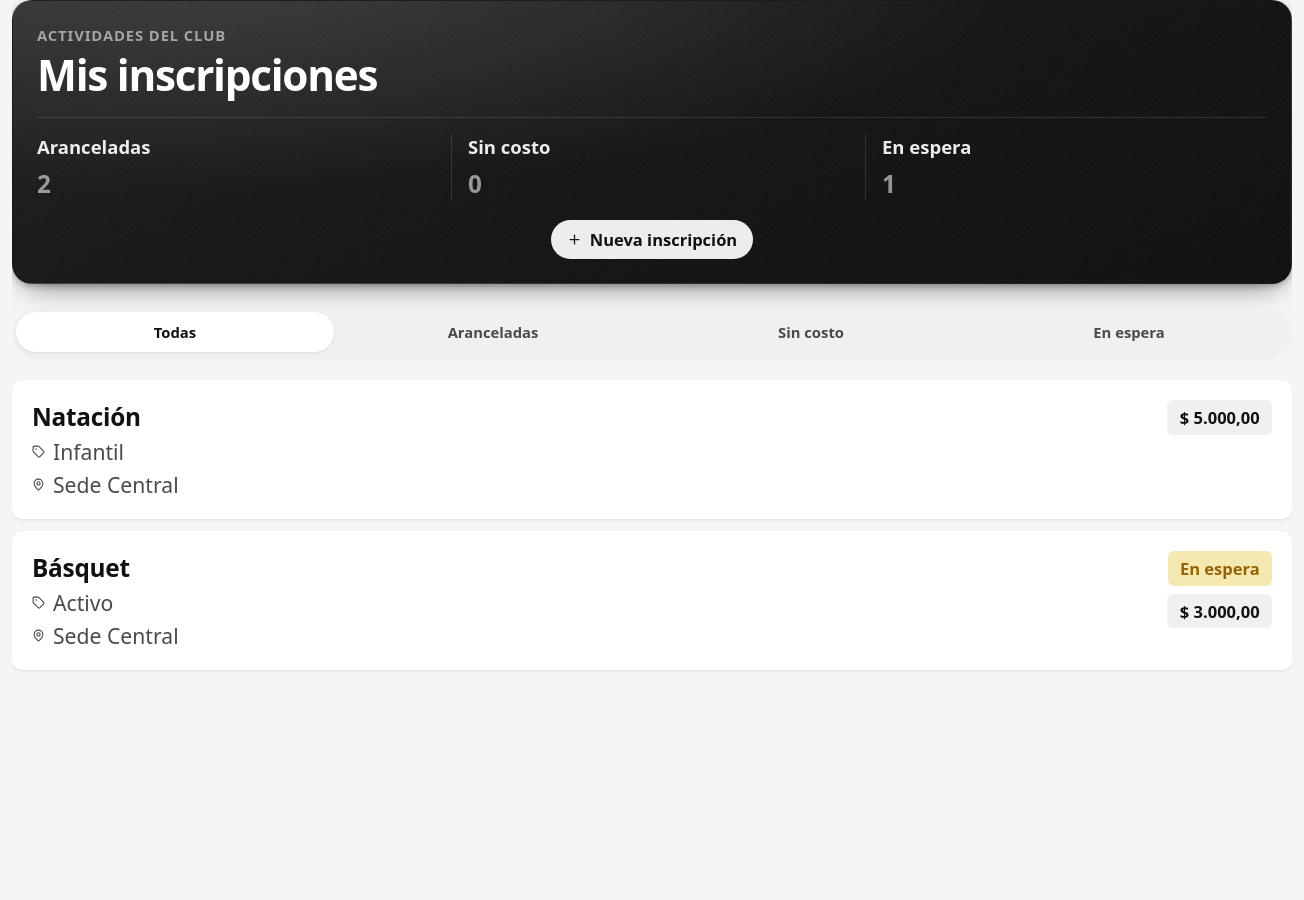
Test case: InscripcionesPage › el filtro "En espera" muestra solo las inscripciones en lista de espera
expect the text "Natación" is shown: met, box [32,400,141,433]
What coordinates should you click on to do the following:
click the radio button labelled "En espera"
I would click on:
 (1129, 332)
Its box is [970,312,1288,352].
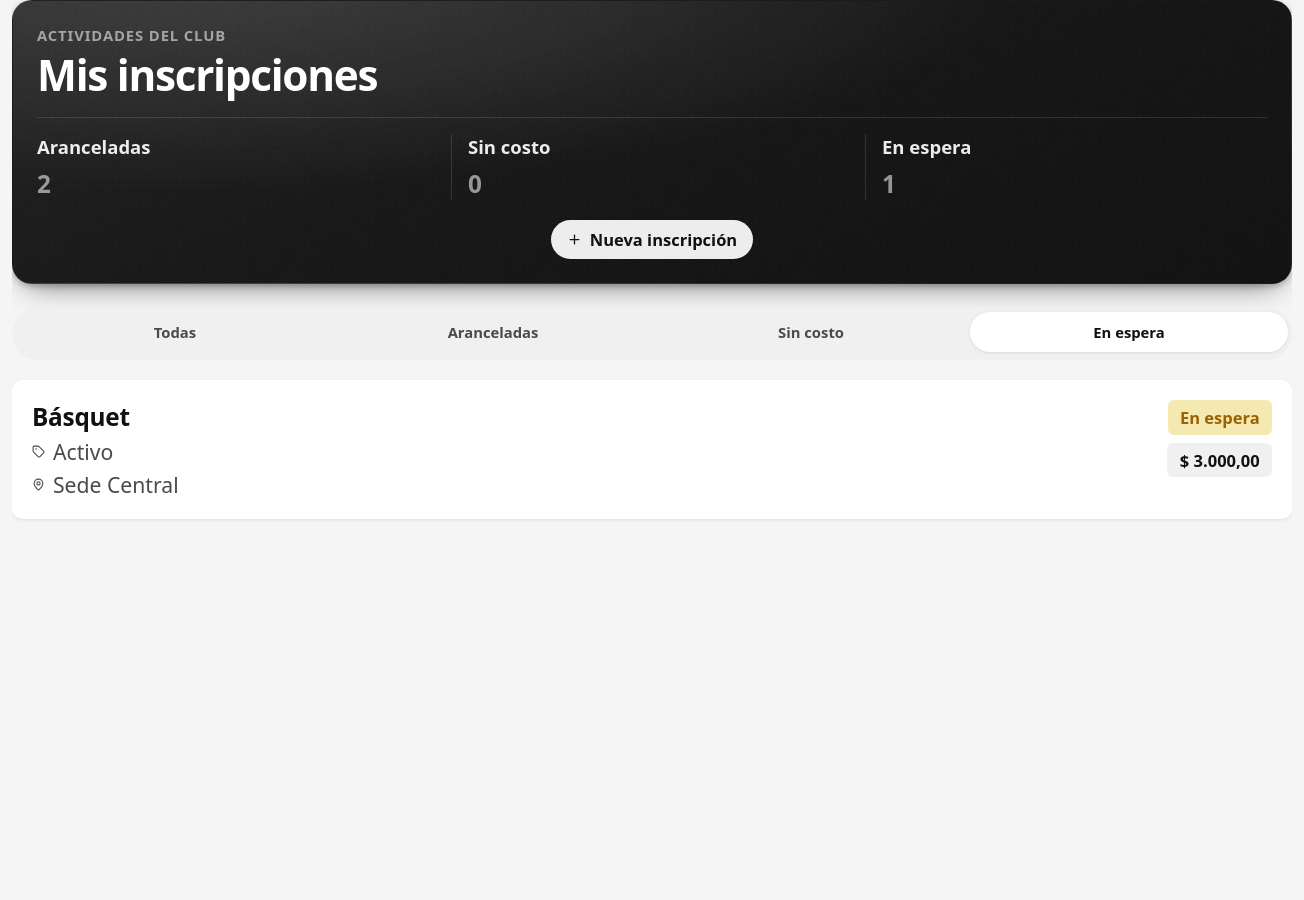
expect the text "Básquet" is shown: met, box [32,400,130,433]
expect the button "Natación" is gone: met
